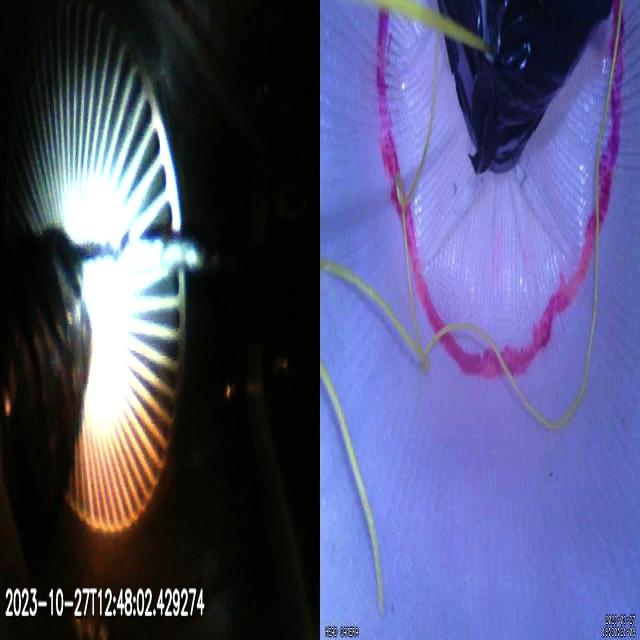red-circle: (377, 0, 623, 376)
